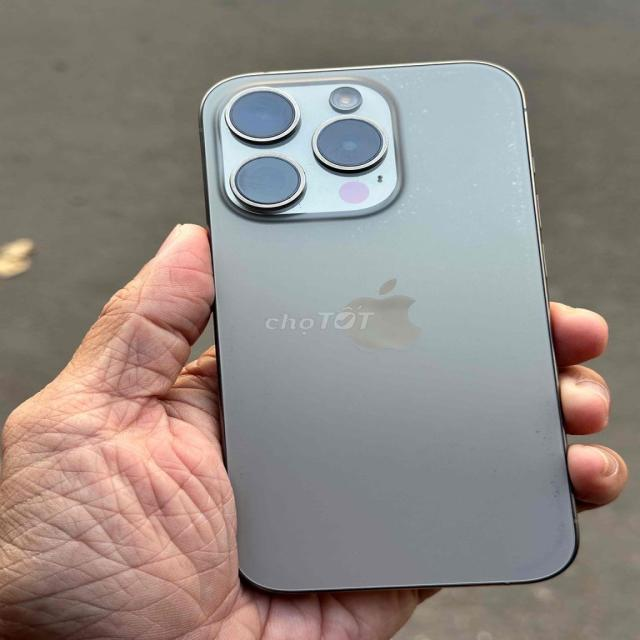gen_15: (180, 53, 612, 605)
